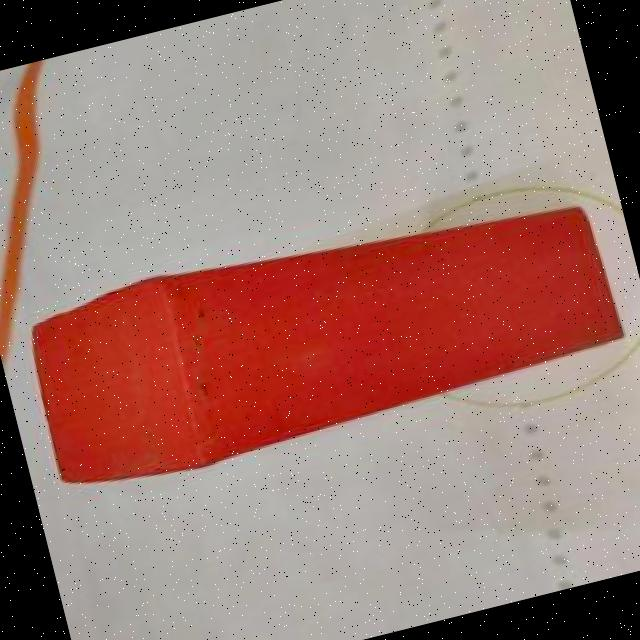redbox: (15, 168, 630, 502)
